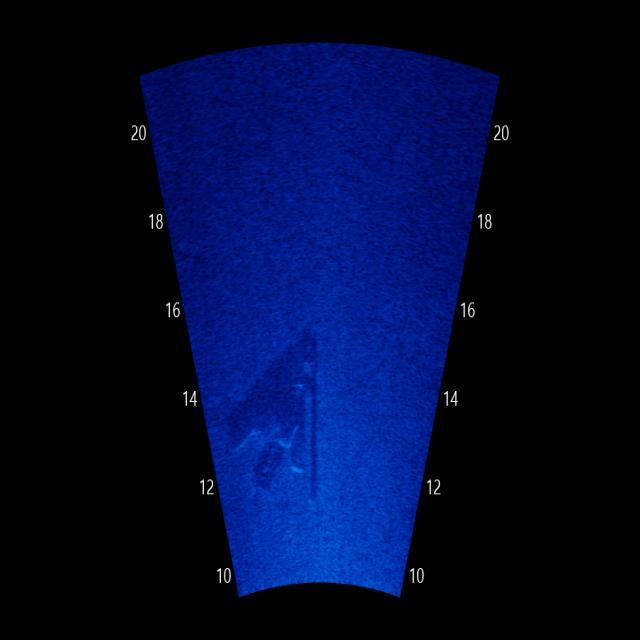triangle: (223, 319, 330, 503)
